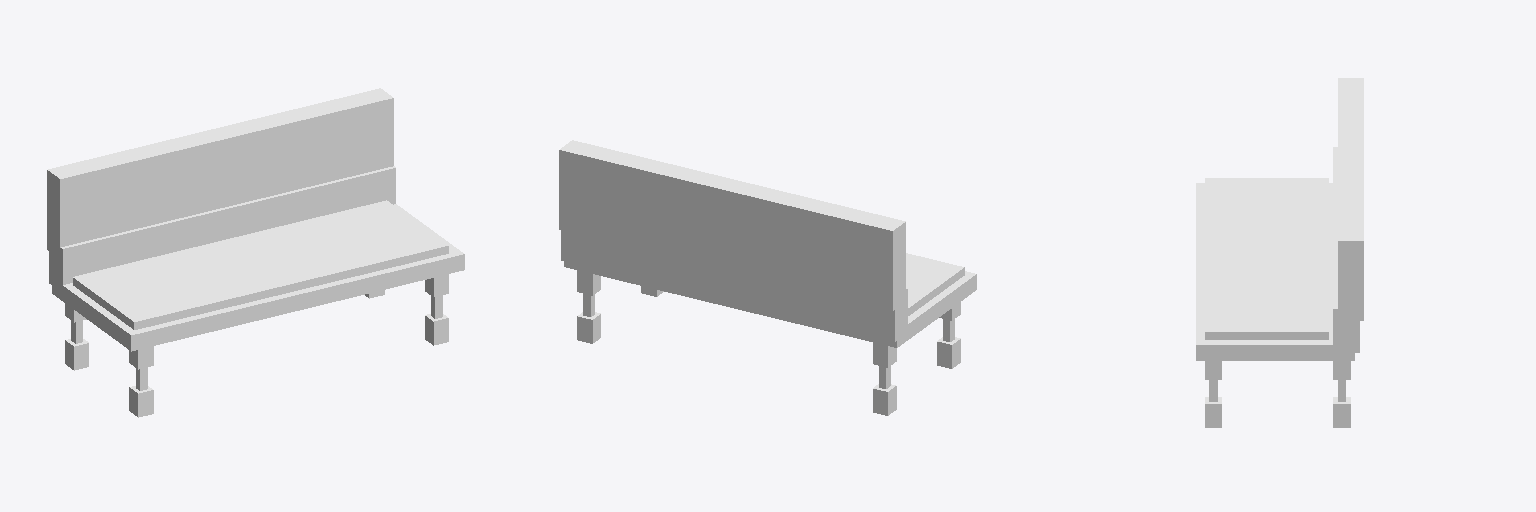
Rendered from greysofa.obj.
The picture shows the model from 3 angles: view 1: azimuth 30°, elevation 25°; view 2: azimuth 150°, elevation 25°; view 3: azimuth 270°, elevation 25°; orthographic projection.
Parts seen in each view (by area): view 1: greysofa; view 2: greysofa; view 3: greysofa.
Boxes of the visible parts, <box> form: greysofa: <box>47,88,464,417</box>; greysofa: <box>559,140,976,415</box>; greysofa: <box>1196,78,1363,427</box>.
Bounding box in the file's own units: 87 × 48 × 38.